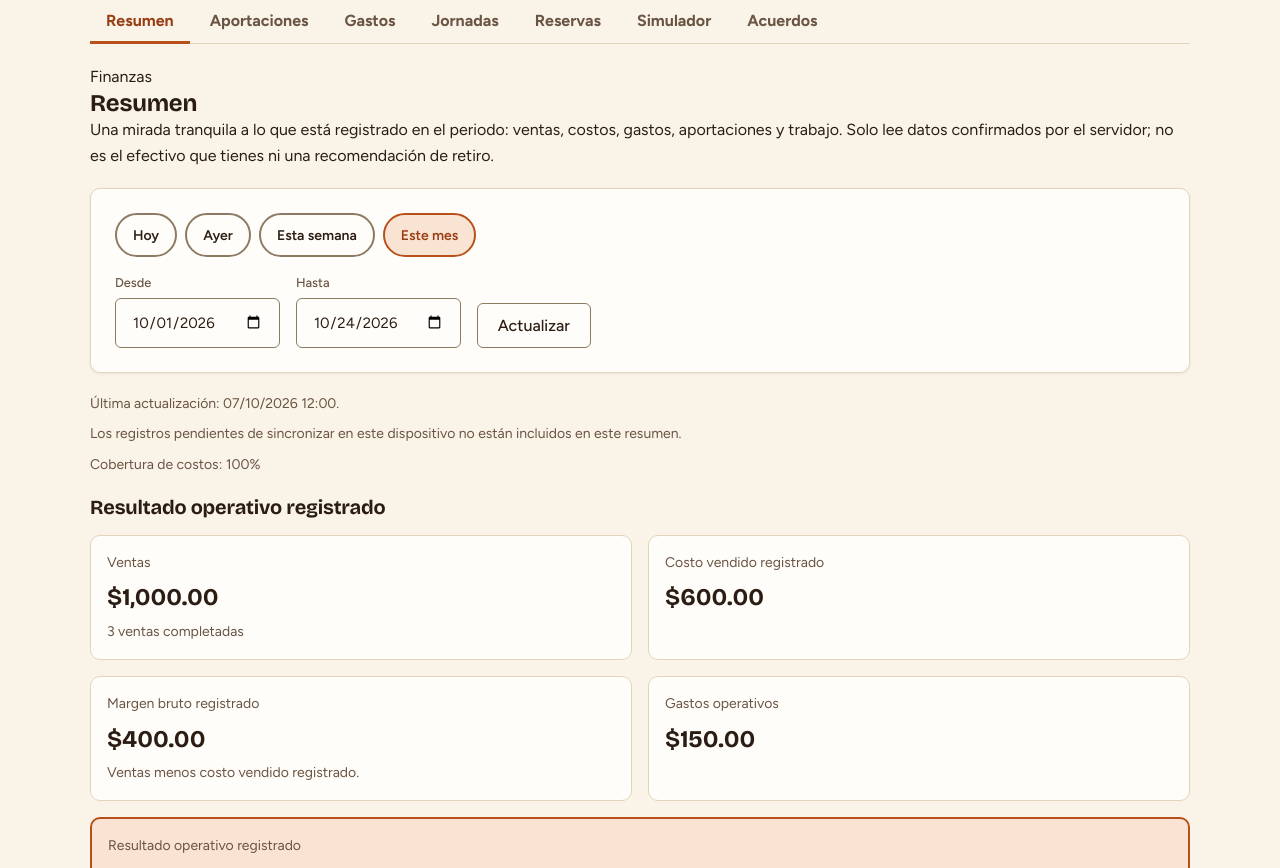
it: overview screen: freshness and states › keeps the last confirmed data labelled as such when a refresh fails, never as updated
The image size is (1280, 868).
Step 1. Click the button "Este mes" → x=430, y=235, box [383, 213, 476, 257]
(page scrolled)
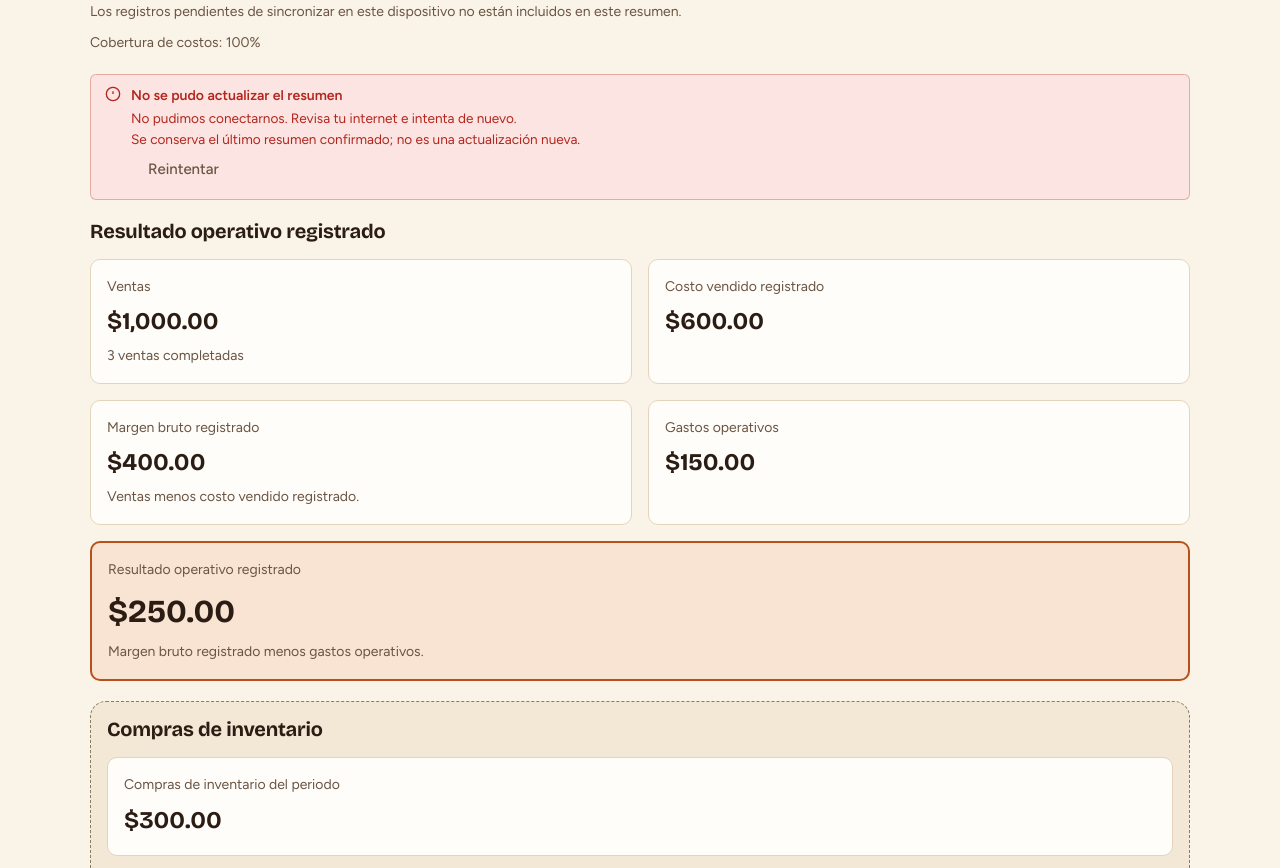
Check: the text with test id "freshness" no longer shows "Última actualización"
Check: the text "No pudimos conectarnos" is shown, box [131, 110, 517, 126]
Check: the text "no es una actualización nueva" is shown, box [131, 130, 580, 146]
